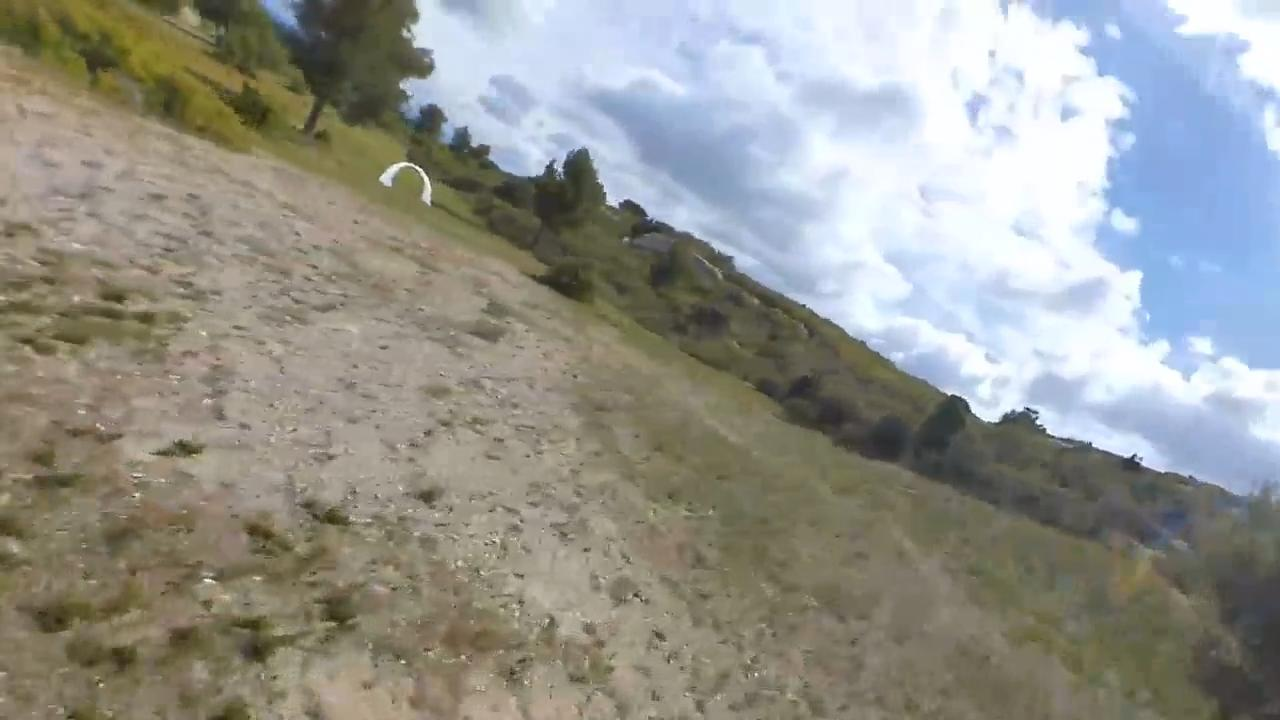gate: (379, 160, 434, 206)
